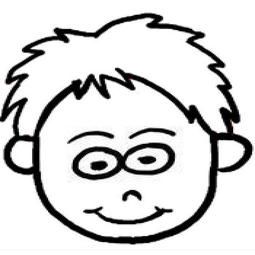ear: (213, 131, 255, 176), (4, 133, 43, 179)
eye: (121, 142, 178, 177), (67, 145, 122, 181)
eyebrow: (125, 124, 181, 141), (62, 127, 117, 143)
mouth: (78, 200, 177, 227)
nose: (114, 184, 160, 205)
